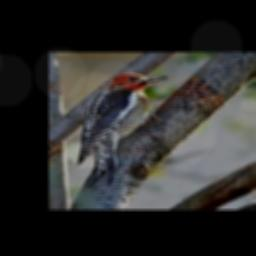Woodpecker: (77, 73, 169, 186)
